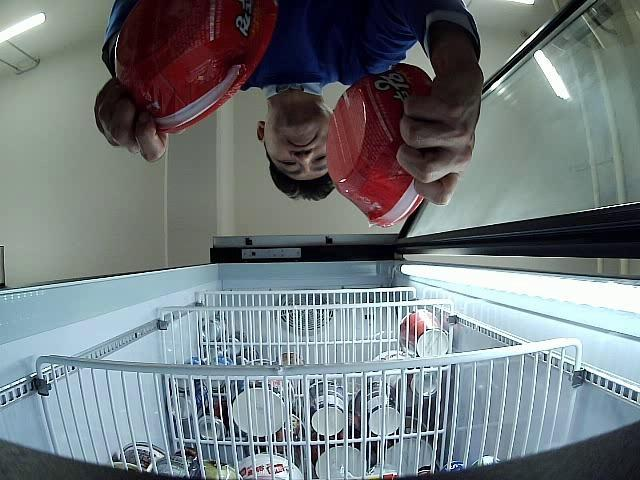10_wangTtukkeong: (115, 0, 278, 135), (326, 63, 433, 228)
